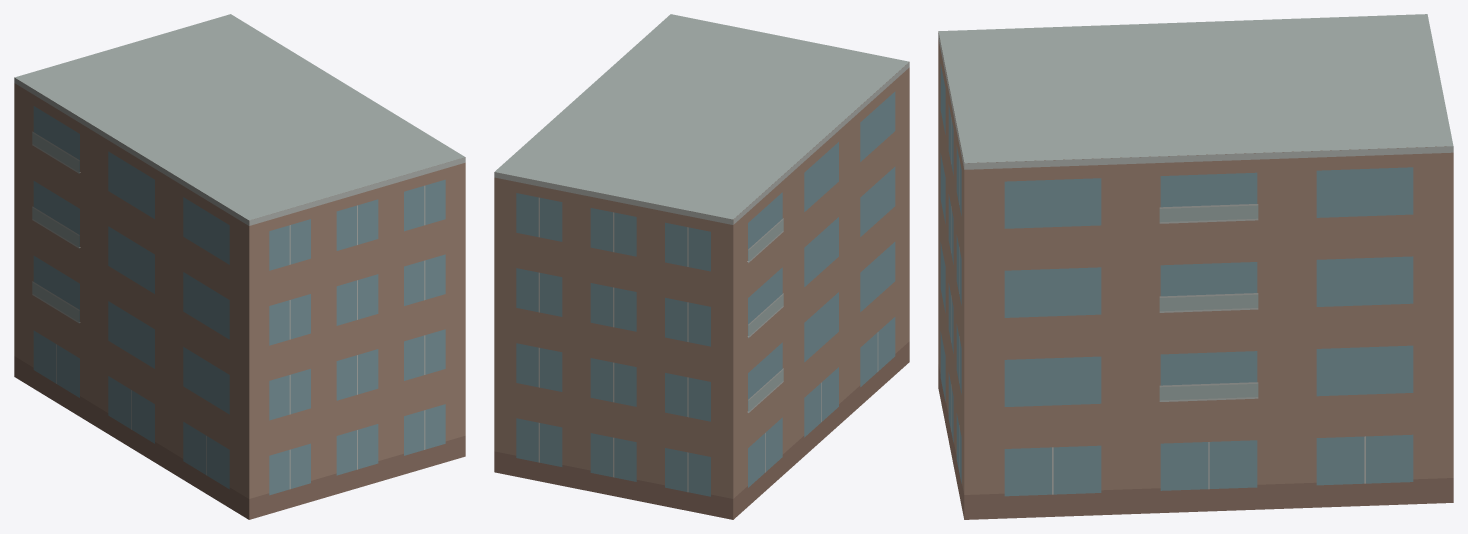
File: survey-upis-32926526.glb
3 renders of one model, left to right at view 1: azimuth 30°, elevation 25°; view 2: azimuth 150°, elevation 25°; view 3: azimuth 270°, elevation 25°, orthographic. The views are drawn at different scales.
Parts seen in each view (by area): view 1: survey-upis-32926526.tmp; view 2: survey-upis-32926526.tmp; view 3: survey-upis-32926526.tmp.
Boxes of the visible parts, x1,y1,x2,y2 form: survey-upis-32926526.tmp: (14,14,465,519); survey-upis-32926526.tmp: (494,14,909,519); survey-upis-32926526.tmp: (938,14,1453,519).
Bounding box in the file's own units: 11.85 × 13.2 × 17.29.
